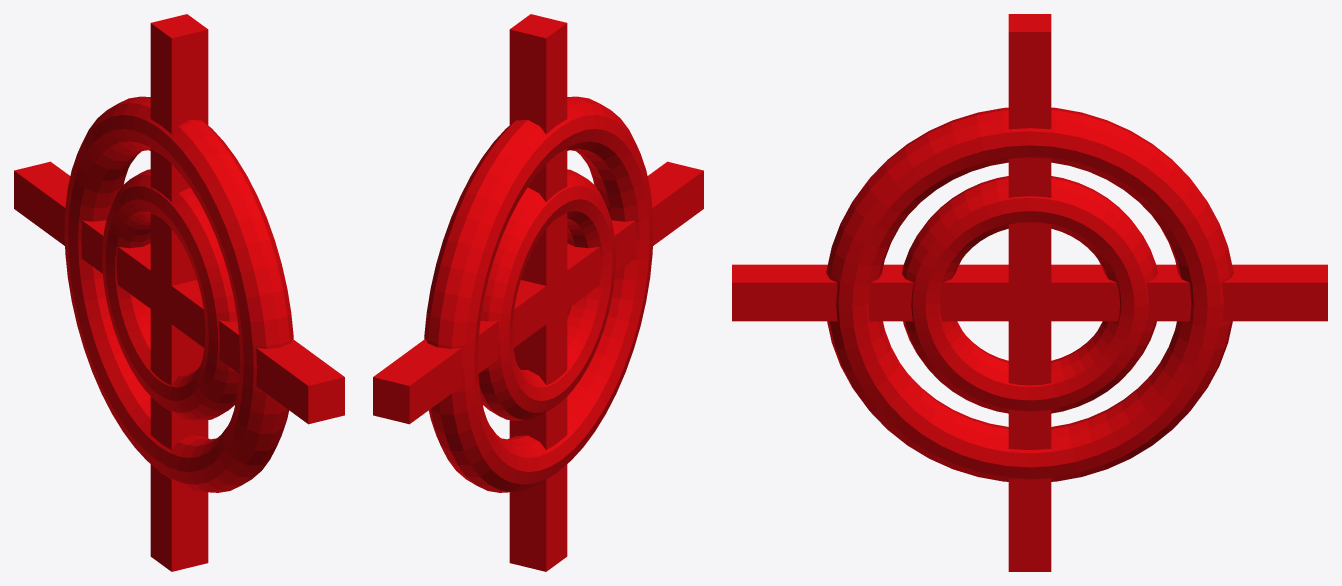
The model's file is Target.gltf.
3 views of the same model, side by side, from view 1: azimuth 30°, elevation 25°; view 2: azimuth 150°, elevation 25°; view 3: azimuth 270°, elevation 25° (orthographic).
Parts seen in each view (by area): view 1: 环体.002, 立方体, 环体.001; view 2: 环体.002, 立方体, 环体.001; view 3: 环体.002, 立方体, 环体.001.
Boxes of the visible parts, box(x1,y1,x2,y2) form: 环体.002: box(64, 96, 293, 492); 立方体: box(14, 14, 344, 571); 环体.001: box(102, 169, 239, 420); 环体.002: box(424, 96, 653, 492); 立方体: box(373, 14, 703, 571); 环体.001: box(478, 169, 615, 420); 环体.002: box(826, 107, 1233, 481); 立方体: box(732, 14, 1327, 571); 环体.001: box(902, 176, 1157, 413).
Bounding box in the file's own units: 0.1276 × 1.38 × 1.38.
